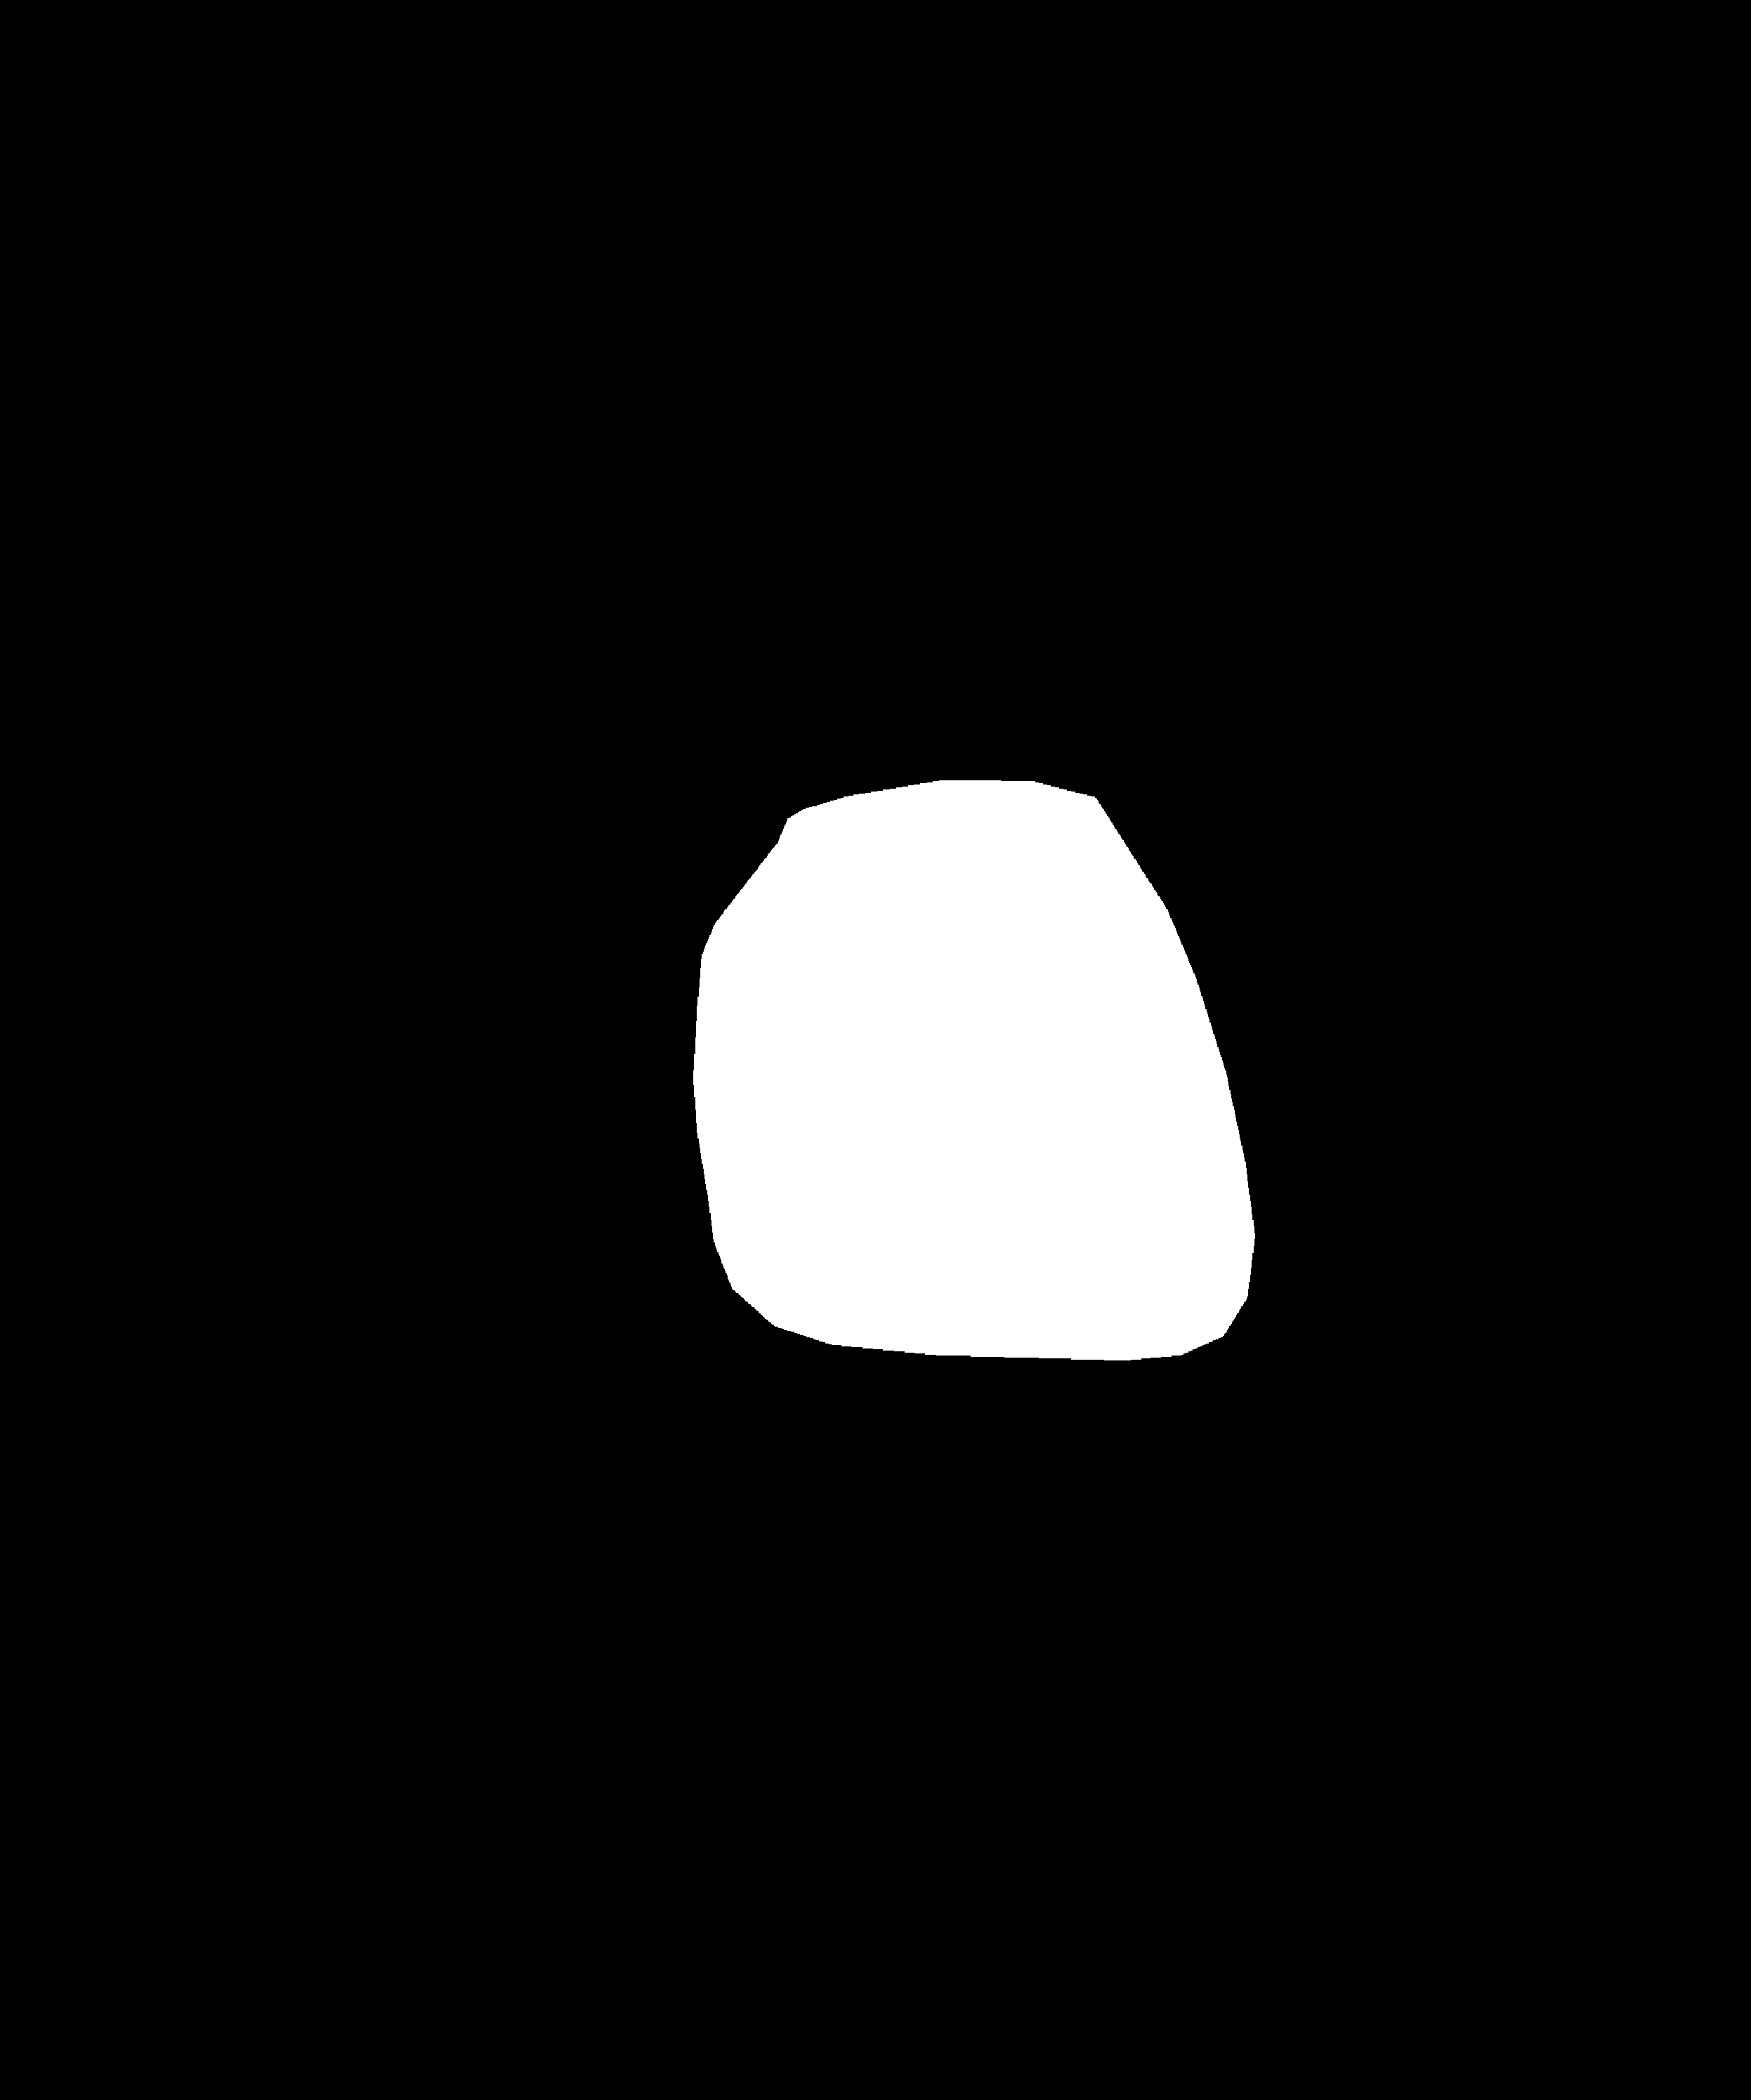heart: (696, 841, 1254, 1343)
left_lung: (192, 215, 853, 1486)
right_lung: (992, 244, 1545, 1551)
